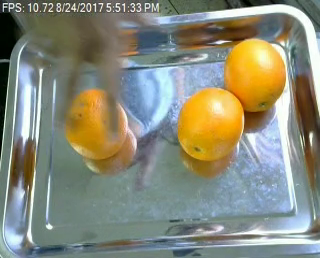Orange: (177, 87, 245, 160), (225, 38, 286, 111)
